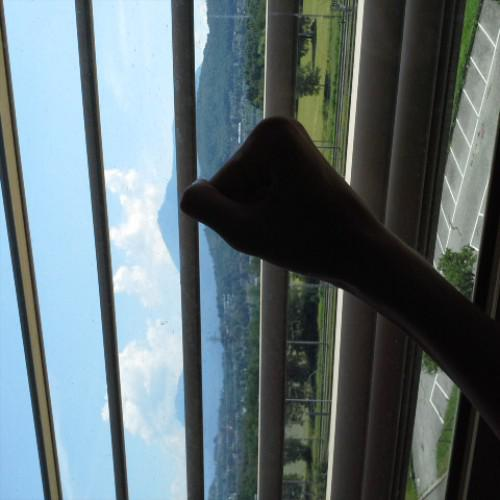rock: (175, 107, 388, 294)
